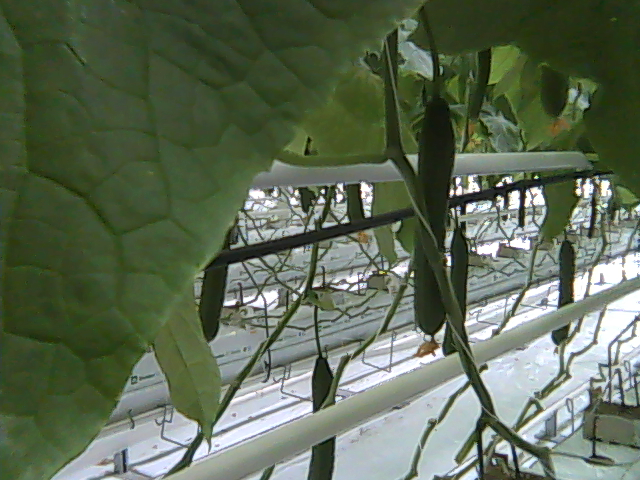concombre: (410, 88, 460, 361)
